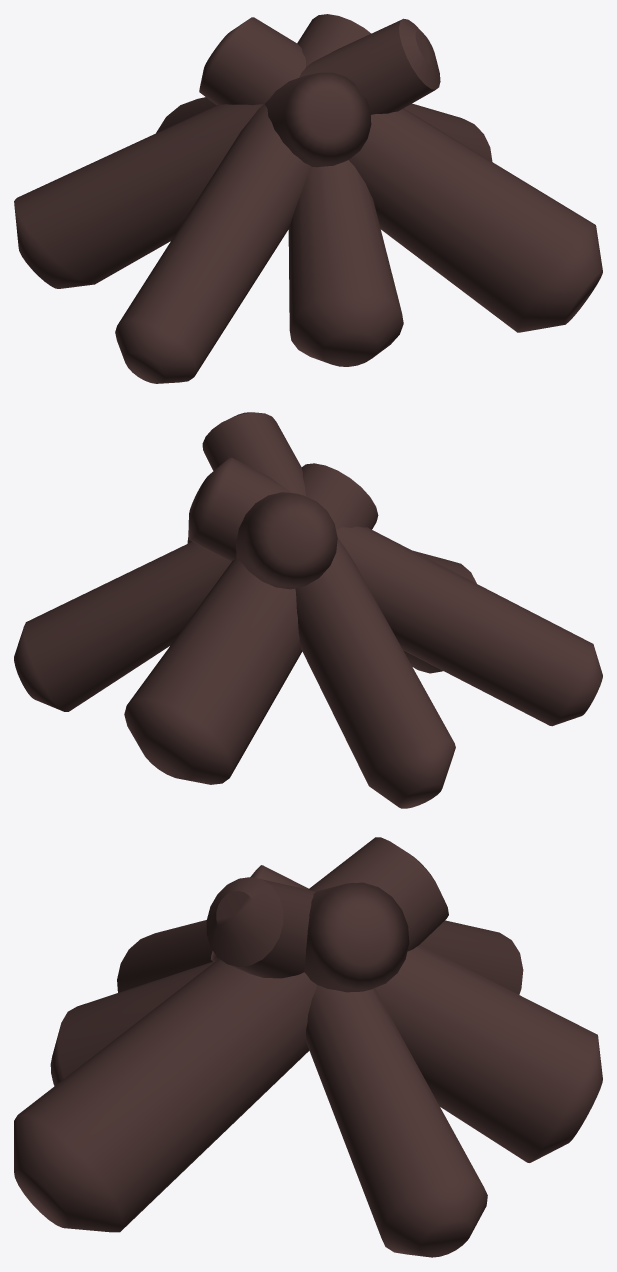
The model's file is sm_fireplace.fbx.
3 views of the same model, one above another, from view 1: azimuth 30°, elevation 25°; view 2: azimuth 150°, elevation 25°; view 3: azimuth 270°, elevation 25° (orthographic). The views are drawn at different scales.
Visible parts, largest first — view 1: sm_fireplace; view 2: sm_fireplace; view 3: sm_fireplace.
Part boxes in pixels (left/top/right/bottom): sm_fireplace: left=14, top=14, right=602, bottom=383; sm_fireplace: left=14, top=412, right=602, bottom=808; sm_fireplace: left=14, top=837, right=602, bottom=1257.
Bounding box in the file's own units: 1.09 × 0.6059 × 1.02.
